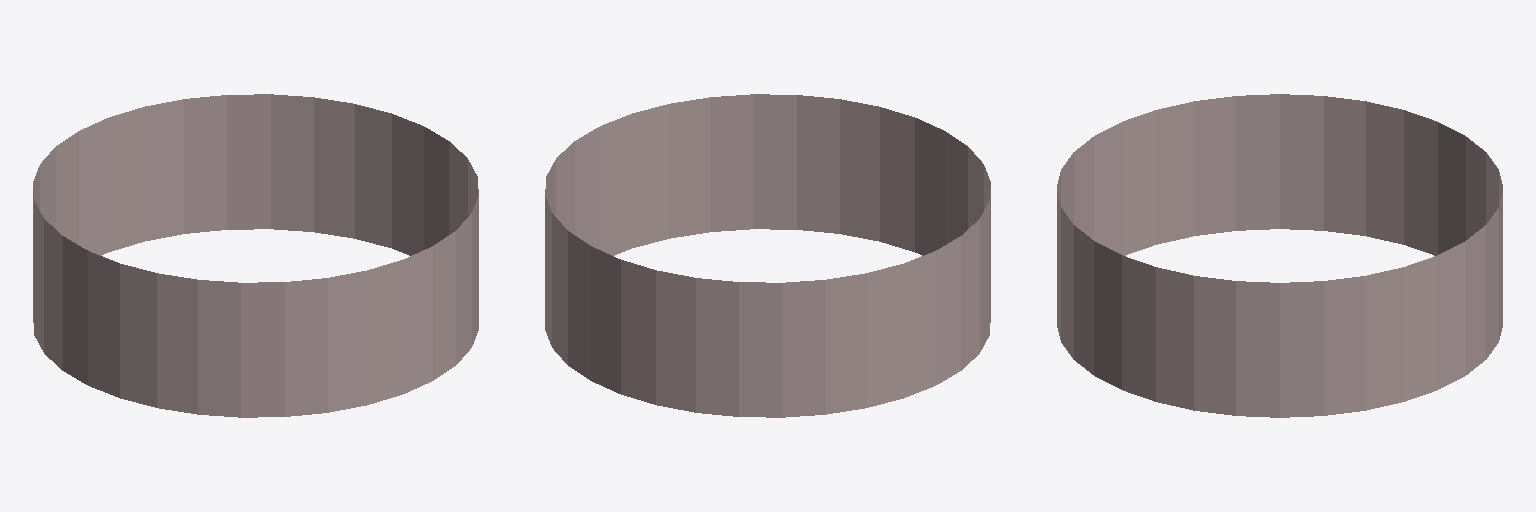
File: hollow_cylinder_red3.obj
The picture shows the model from 3 angles: view 1: azimuth 30°, elevation 25°; view 2: azimuth 150°, elevation 25°; view 3: azimuth 270°, elevation 25°; orthographic projection.
Visible parts, largest first — view 1: Cylinder; view 2: Cylinder; view 3: Cylinder.
Part boxes in pixels (left/top/right/bottom): Cylinder: left=33, top=94, right=478, bottom=417; Cylinder: left=545, top=94, right=990, bottom=417; Cylinder: left=1057, top=94, right=1502, bottom=417.
Size of the model in its own units: 1.2 by 0.4 by 1.2.